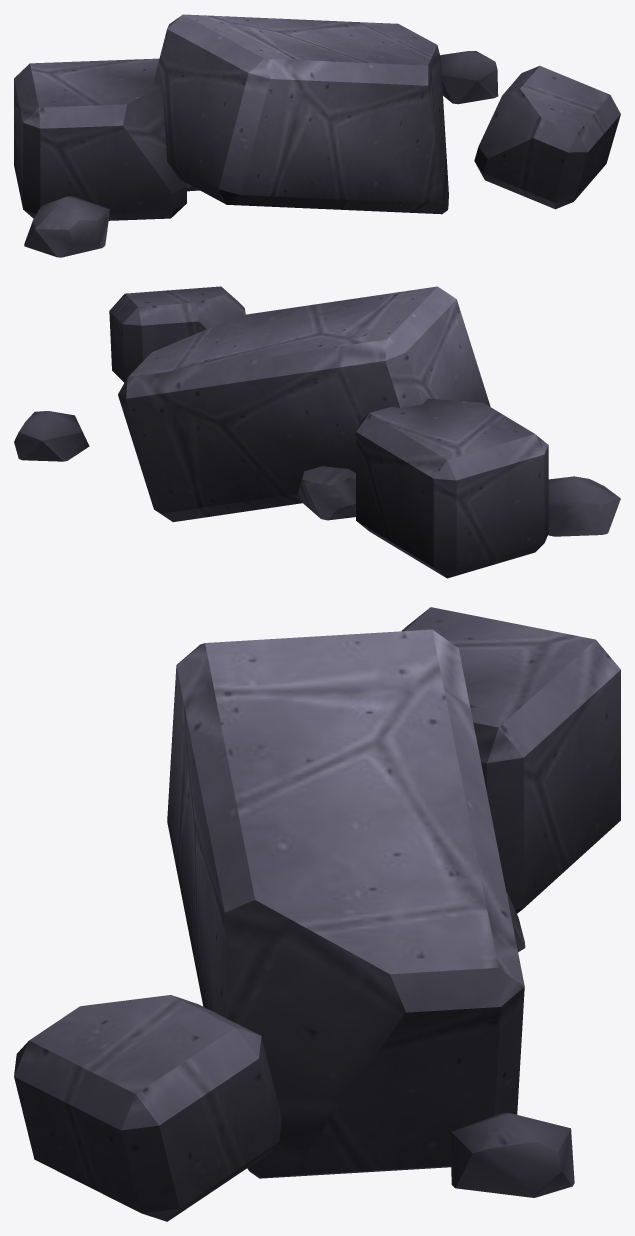
File: dng_rubble_b.glb
3 views of the same model, one above another, from view 1: azimuth 30°, elevation 25°; view 2: azimuth 150°, elevation 25°; view 3: azimuth 270°, elevation 25° (orthographic). The views are drawn at different scales.
Visible parts, largest first — view 1: dng_rubble_b; view 2: dng_rubble_b; view 3: dng_rubble_b.
Part boxes in pixels (x1,y1,x2,y2): dng_rubble_b: (14,14,620,257); dng_rubble_b: (14,286,620,578); dng_rubble_b: (14,607,620,1221).
Size of the model in its own units: 1.36 by 0.518 by 0.7664.
1 material, 1 textured.
